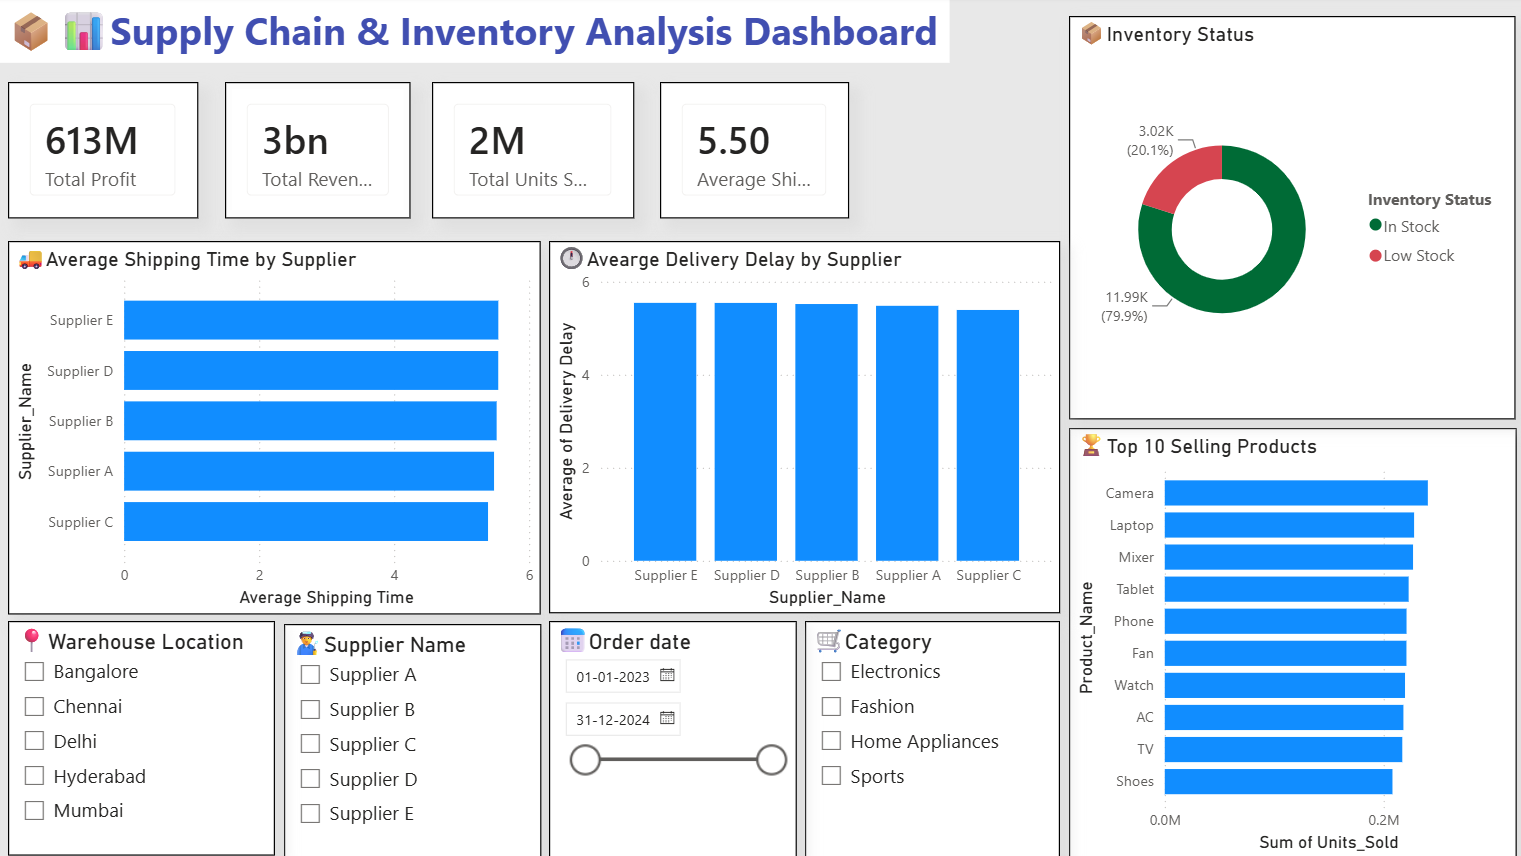

The page's visual inventory and layout, read from the dashboard file:
{"tool":"powerbi","page":{"name":"Page 1","canvas":[1280,720],"ordinal":0},"visuals":[{"type":"cardVisual","title":"💵","fields":{"Data":["Average Shipping Time.Total Revenue"]},"box":[188.8,71,155.4,113.6],"z":0},{"type":"cardVisual","title":"💰","fields":{"Data":["Average Shipping Time.Total Profit"]},"box":[7.5,71,158.7,113.6],"z":1000},{"type":"cardVisual","title":"📦","fields":{"Data":["Average Shipping Time.Total Units Sold"]},"box":[361.7,71,168.7,113.6],"z":2000},{"type":"cardVisual","title":"🚚","fields":{"Data":["Average Shipping Time.Average Shipping Time"]},"box":[552.1,71,157.9,113.6],"z":3000},{"type":"clusteredBarChart","title":"🏆Top 10 Selling Products","fields":{"Category":["Average Shipping Time.Product_Name"],"Y":["Sum(Average Shipping Time.Units_Sold)"]},"box":[893.7,360,374.2,360],"z":4000},{"type":"donutChart","title":"📦Inventory Status","fields":{"Category":["Average Shipping Time.Inventory Status"],"Y":["CountNonNull(Average Shipping Time.Product_ID)"]},"box":[893.7,15.9,372.5,337.4],"z":5000},{"type":"barChart","title":"🚚Average Shipping Time by Supplier","fields":{"Category":["Average Shipping Time.Supplier_Name"],"Y":["Average Shipping Time.Average Shipping Time"]},"box":[7.5,203.8,445.2,311.6],"z":6000},{"type":"clusteredColumnChart","title":"🕛Avearge Delivery Delay by Supplier","fields":{"Category":["Average Shipping Time.Supplier_Name"],"Y":["Avg(Average Shipping Time.Delivery Delay)"]},"box":[459.5,204,427.4,311.1],"z":7000},{"type":"slicer","title":"🛒Category","fields":{"Values":["Average Shipping Time.Category"]},"box":[673.6,521,213.3,199],"z":8000},{"type":"slicer","title":"🧑🏭Supplier Name","fields":{"Values":["Average Shipping Time.Supplier_Name"]},"box":[238.1,523.7,214.7,196.3],"z":9000},{"type":"slicer","title":"📍Warehouse Location","fields":{"Values":["Average Shipping Time.Warehouse_Location"]},"box":[7.5,521.2,223,196.3],"z":10000},{"type":"slicer","title":"📅Order date","fields":{"Values":["Average Shipping Time.Order_Date"]},"box":[459.4,521.2,207.1,198.8],"z":10001},{"type":"textbox","box":[0,0,794.2,54.8],"z":10002}]}

Visuals, with their boxes in screenshot pixels (x1, y1, x2, y2), scaled from the page's 1280x720 canvas onto the 1521x856 screenshot:
"💵" cardVisual: detection(224, 84, 409, 219)
"💰" cardVisual: detection(9, 84, 197, 219)
"📦" cardVisual: detection(430, 84, 630, 219)
"🚚" cardVisual: detection(656, 84, 844, 219)
"🏆Top 10 Selling Products" clusteredBarChart: detection(1062, 428, 1507, 855)
"📦Inventory Status" donutChart: detection(1062, 19, 1505, 420)
"🚚Average Shipping Time by Supplier" barChart: detection(9, 242, 538, 613)
"🕛Avearge Delivery Delay by Supplier" clusteredColumnChart: detection(546, 243, 1054, 612)
"🛒Category" slicer: detection(800, 619, 1054, 855)
"🧑🏭Supplier Name" slicer: detection(283, 623, 538, 855)
"📍Warehouse Location" slicer: detection(9, 620, 274, 853)
"📅Order date" slicer: detection(546, 620, 792, 855)
textbox: detection(0, 0, 944, 65)
